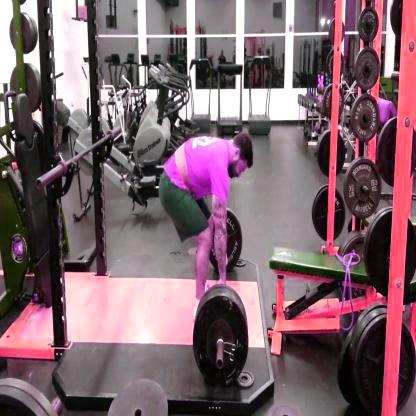Barbell: (217, 356, 224, 373)
